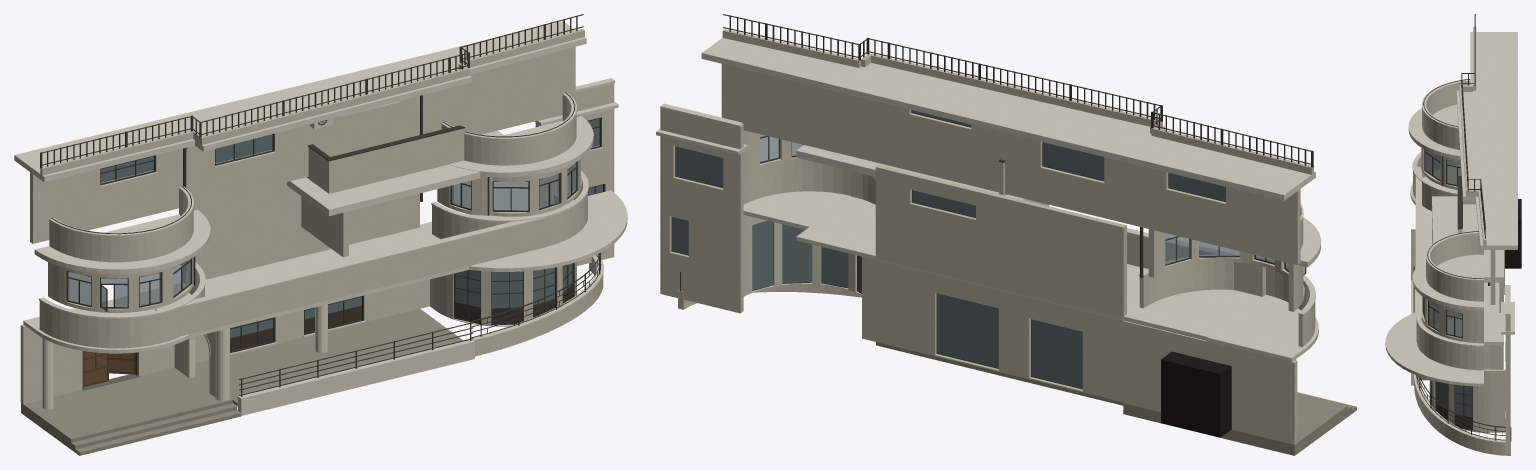
Rendered from xuhui-yuqing-80-twin-winter-gardens-lod.glb.
The picture shows the model from 3 angles, left to right: view 1: azimuth 30°, elevation 25°; view 2: azimuth 150°, elevation 25°; view 3: azimuth 270°, elevation 25°; orthographic projection. The views are drawn at different scales.
Visible parts, largest first — view 1: 余庆路80号双圆阳光房花园立面; view 2: 余庆路80号双圆阳光房花园立面; view 3: 余庆路80号双圆阳光房花园立面.
Boxes of the visible parts, x1,y1,x2,y2 form: 余庆路80号双圆阳光房花园立面: (14, 14, 627, 455); 余庆路80号双圆阳光房花园立面: (656, 14, 1356, 455); 余庆路80号双圆阳光房花园立面: (1385, 14, 1521, 455).
Bounding box in the file's own units: 24.95 × 10.95 × 6.19.
16 materials, 3 textured.
